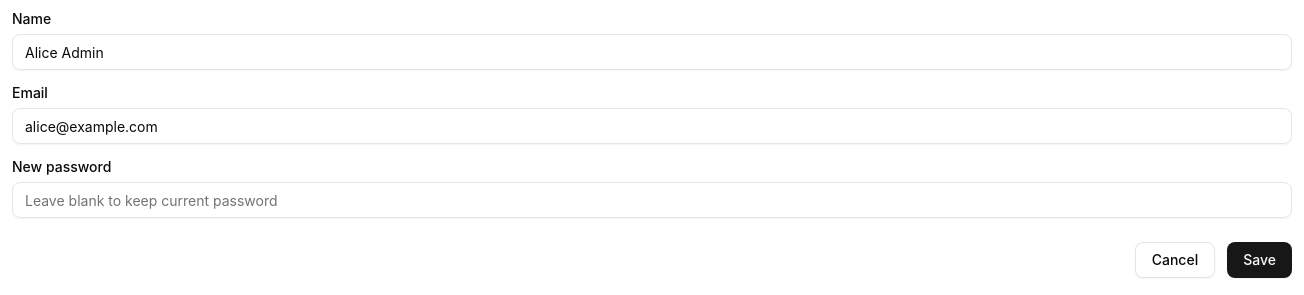
UserForm › edit mode › shows 'Saving…' on the submit button while the request is in flight
The image size is (1304, 295).
Click the button "Save". click: coordinates (1260, 260)
box: x1=1227 y1=242 x2=1292 y2=278
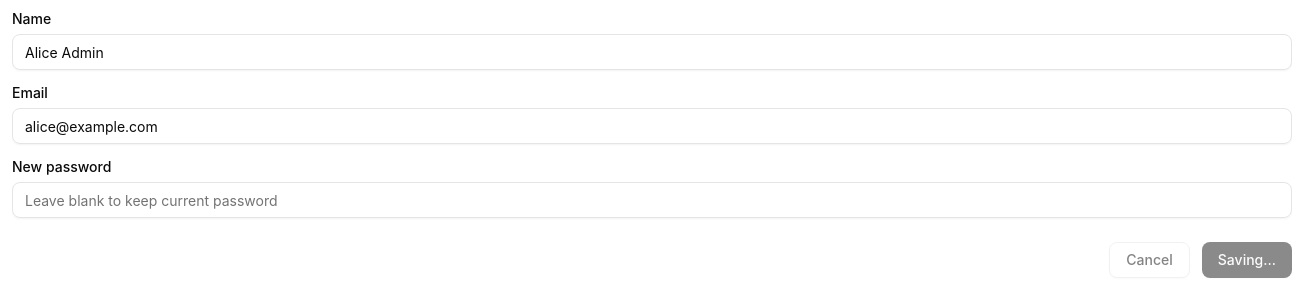
Now the button "Saving…" is shown, box x1=1202 y1=242 x2=1292 y2=278
